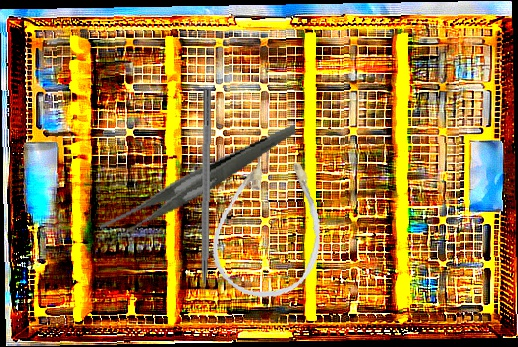Cannula: (203, 139, 338, 307)
Dressing Forceps: (87, 123, 311, 247)
Hook Surgical: (197, 89, 212, 313)
